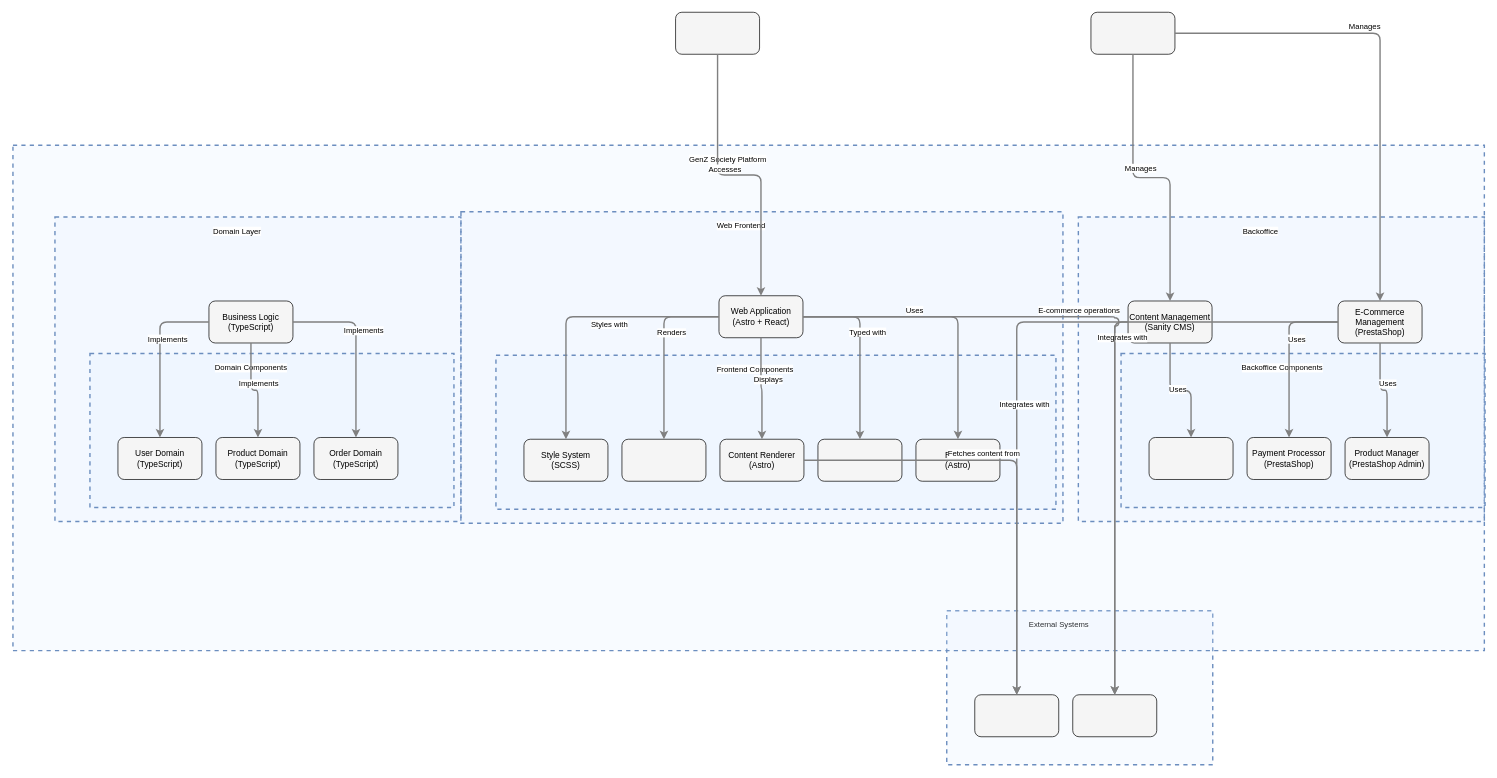
This 1497x778 diagram has some shape labels left out. The shapes that lost their labels are listed below. From the top down, each one's centre as x and y in pixels, then its label:
point 717,33: End User
point 1132,33: Admin User
point 663,460: UI Components (React)
point 859,460: Type System (TypeScript)
point 1190,458: Content Manager (Sanity Studio)
point 1016,715: Sanity CMS (Headless CMS)
point 1114,715: PrestaShop (E-Commerce Platform)
